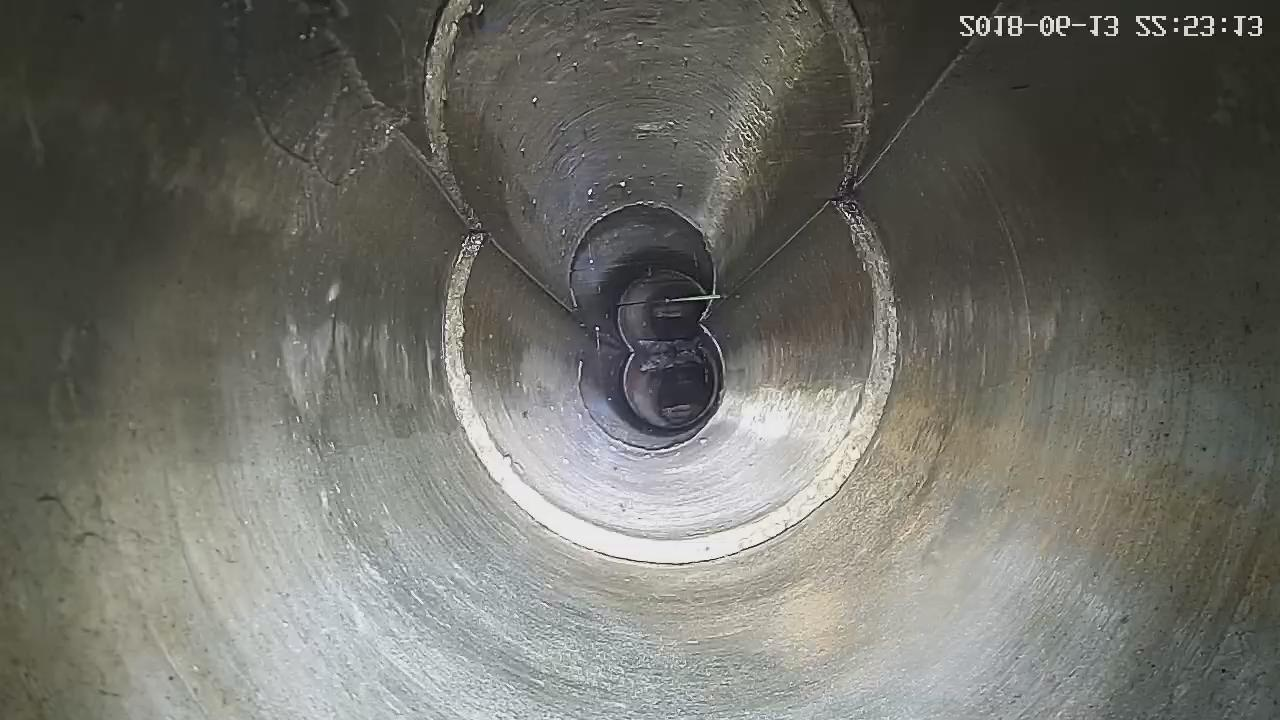CKTJ: (441, 192, 899, 567)
